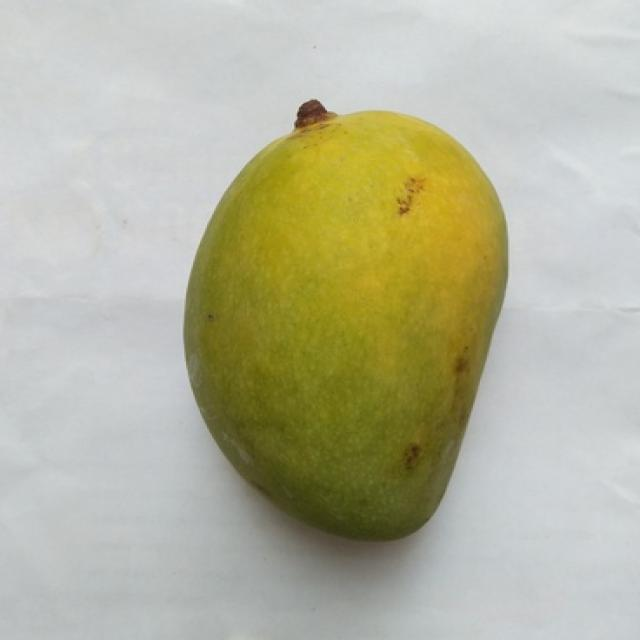Mango: (186, 101, 506, 539)
